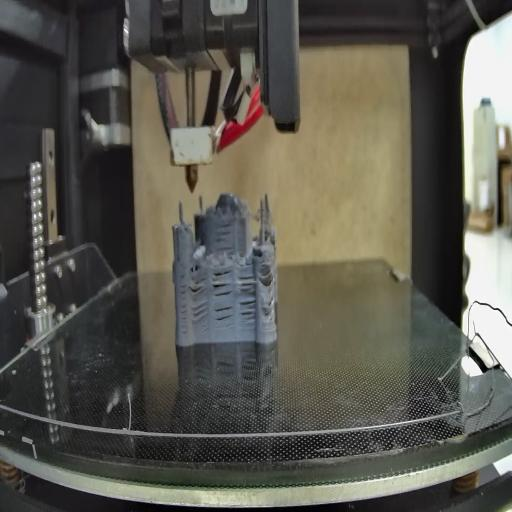cracks: (238, 272, 256, 329), (213, 214, 235, 256), (214, 302, 236, 331), (212, 270, 234, 298), (192, 300, 210, 331), (180, 275, 188, 338), (189, 273, 207, 298), (260, 268, 276, 289), (264, 294, 275, 318), (175, 244, 181, 266)
